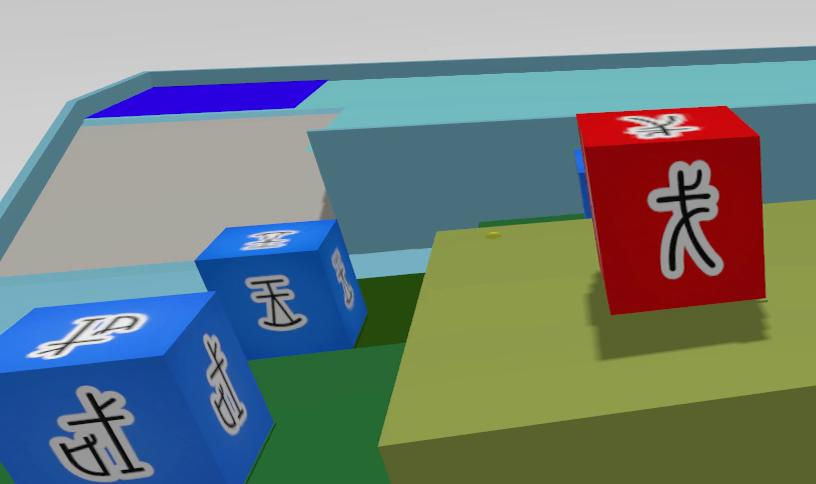KFS_FAKE: (577, 106, 764, 313), (649, 161, 722, 279), (619, 112, 700, 139)
KFS_REAL: (0, 292, 273, 484), (195, 220, 366, 357), (49, 385, 153, 482), (27, 313, 147, 358), (204, 334, 246, 434), (245, 276, 306, 329)
